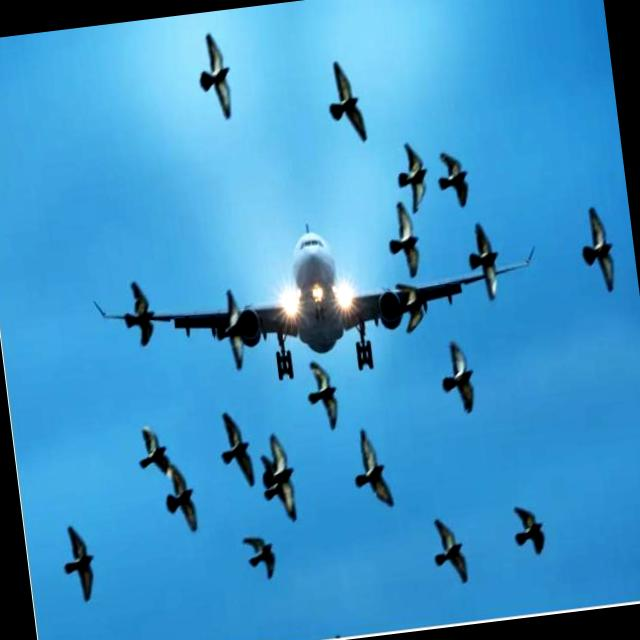bird: (568, 195, 624, 297), (186, 29, 246, 123), (51, 520, 111, 612), (256, 427, 312, 524), (424, 508, 486, 594), (344, 425, 401, 518), (152, 461, 214, 546), (322, 54, 374, 147), (208, 402, 258, 496), (432, 337, 486, 419), (502, 491, 552, 566), (464, 217, 507, 300), (382, 198, 424, 280), (302, 354, 344, 434), (117, 268, 157, 352), (231, 520, 285, 582), (432, 139, 480, 208), (122, 420, 181, 476), (394, 137, 436, 210)
